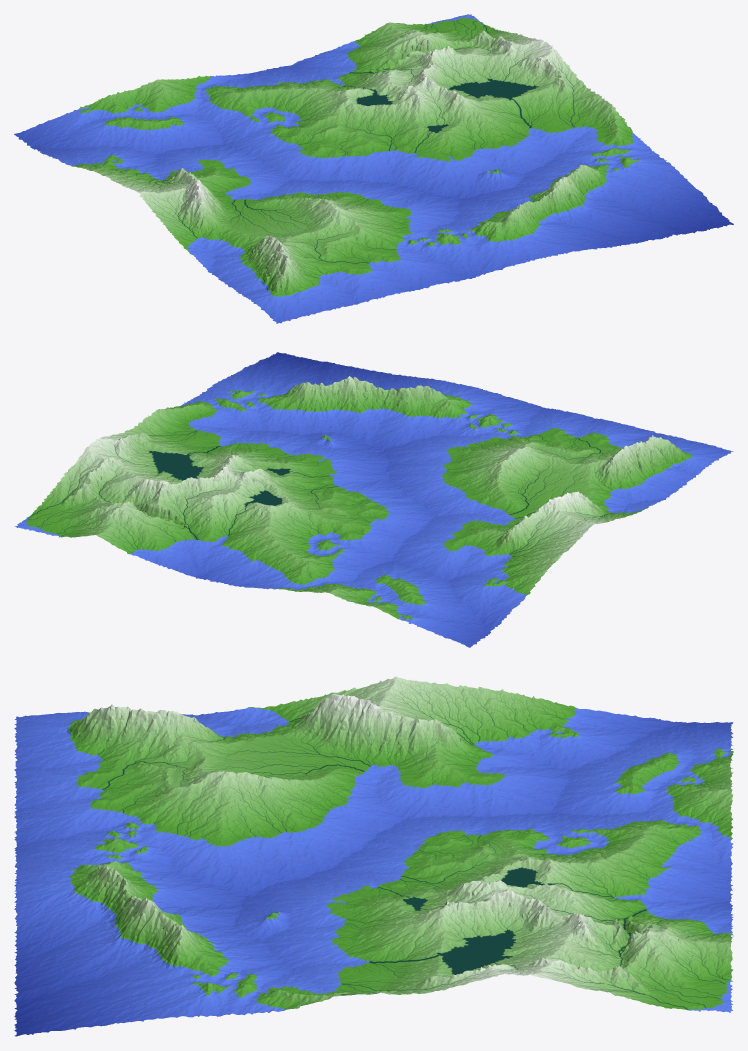
Rendered from Chasers@2x.obj.
3 renders of one model, top to bottom at view 1: azimuth 30°, elevation 25°; view 2: azimuth 150°, elevation 25°; view 3: azimuth 270°, elevation 25°, orthographic. The views are drawn at different scales.
Size of the model in its own units: 4095 by 426 by 4094.
1 material, 1 textured.
